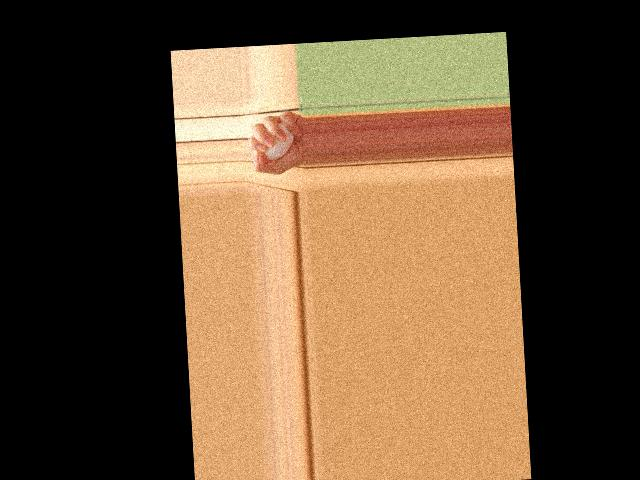egg: (259, 121, 295, 160)
